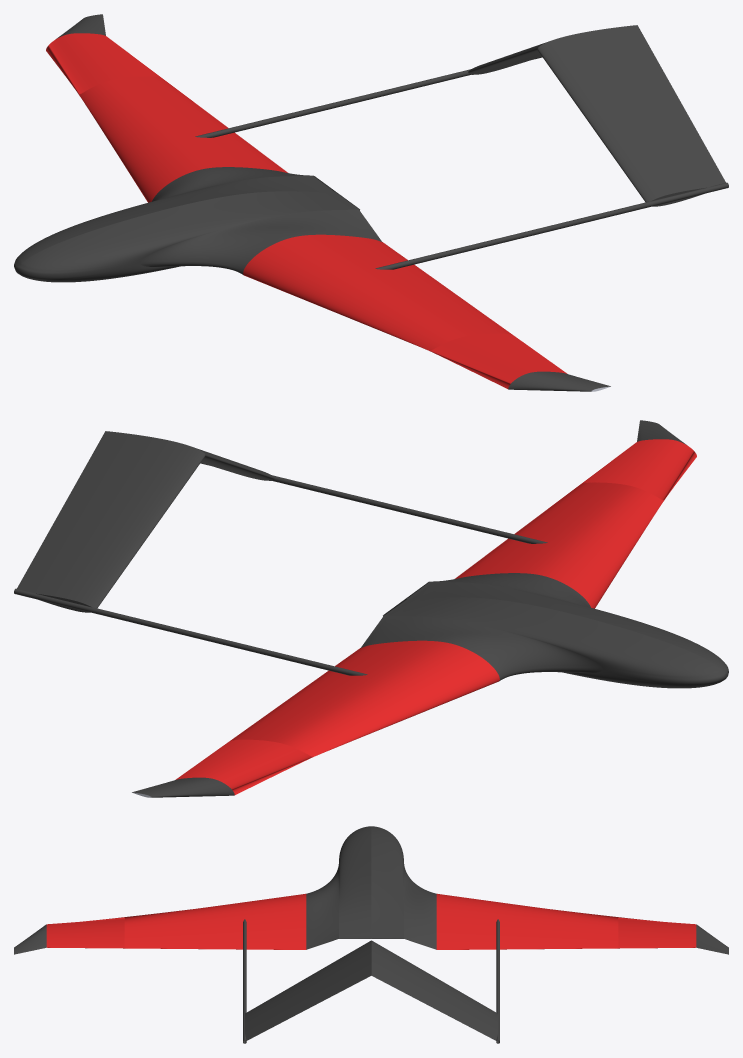
The model's file is robot.glb.
3 views of the same model, one above another, from view 1: azimuth 30°, elevation 25°; view 2: azimuth 150°, elevation 25°; view 3: azimuth 270°, elevation 25° (orthographic). The views are drawn at different scales.
Parts seen in each view (by area): view 1: Finalplanetillnowassembly; view 2: Finalplanetillnowassembly; view 3: Finalplanetillnowassembly.
Boxes of the visible parts, bbox=[...] form: Finalplanetillnowassembly: bbox=[14, 14, 728, 391]; Finalplanetillnowassembly: bbox=[14, 420, 728, 797]; Finalplanetillnowassembly: bbox=[14, 826, 728, 1043].
Bounding box in the file's own units: 1.55 × 0.2999 × 2.2.
